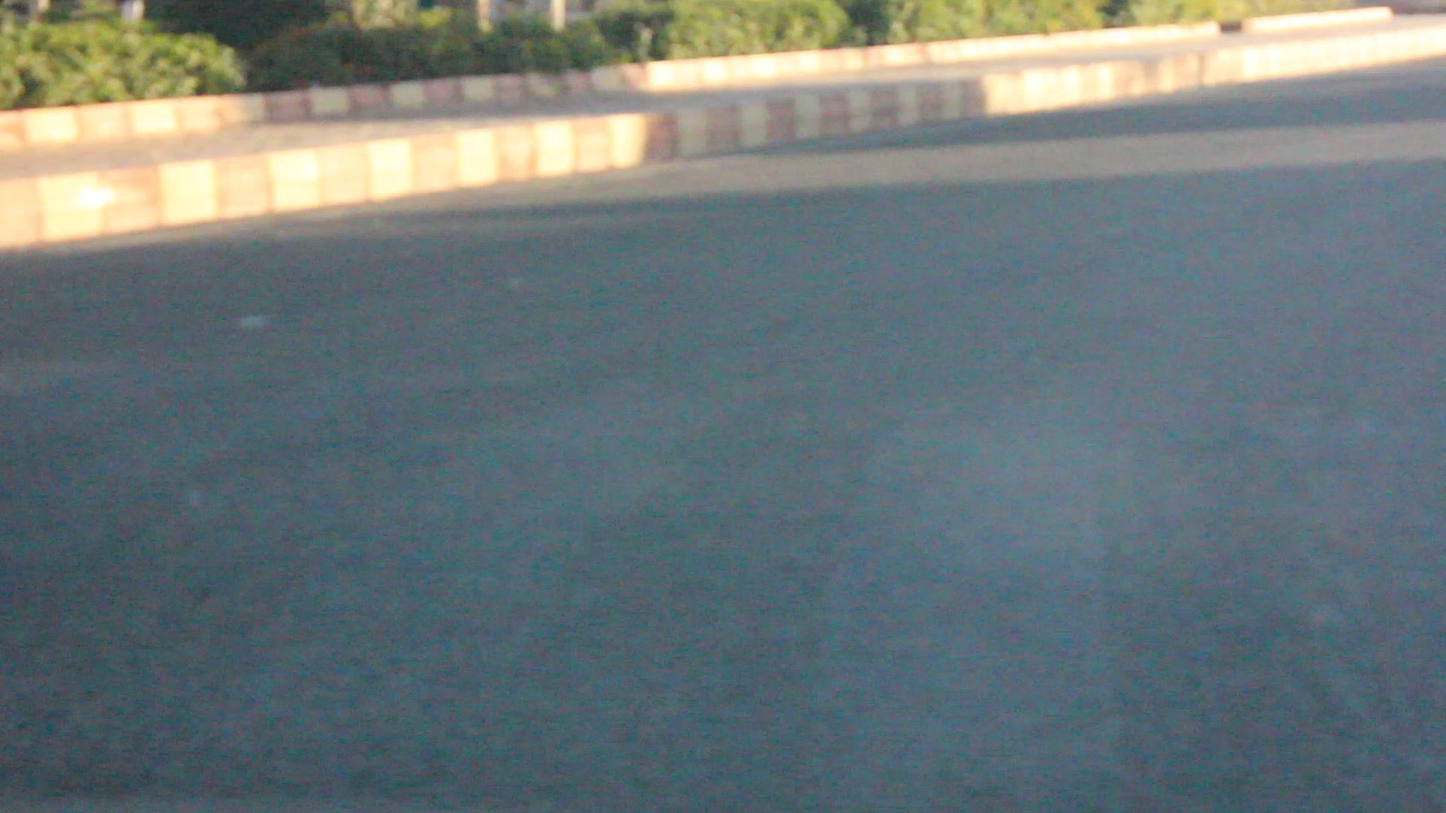Bump: (19, 356, 1446, 664)
